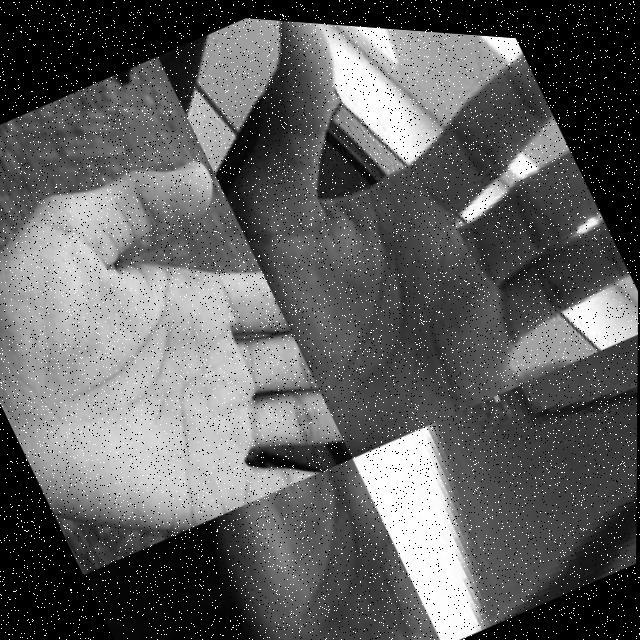no-gloves: (154, 9, 640, 468), (0, 118, 354, 588), (162, 441, 446, 640), (416, 427, 638, 640)
